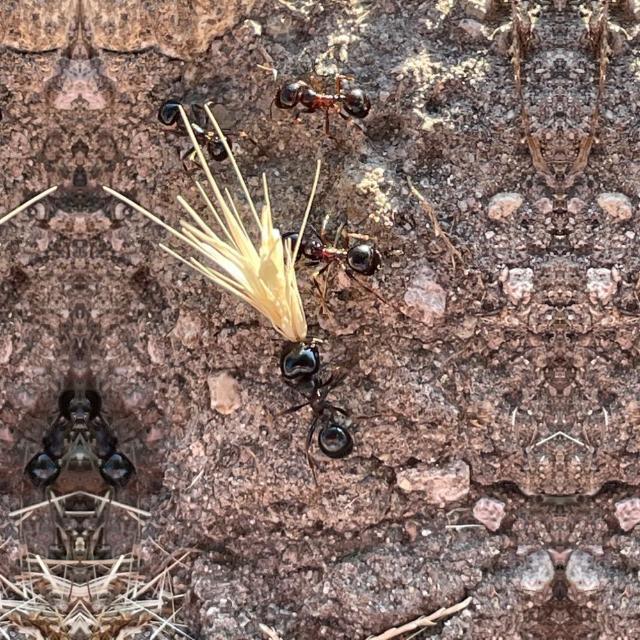Messor: (235, 334, 368, 458), (248, 222, 392, 278), (157, 102, 247, 158), (264, 78, 372, 124), (80, 382, 112, 512), (48, 382, 80, 512)
